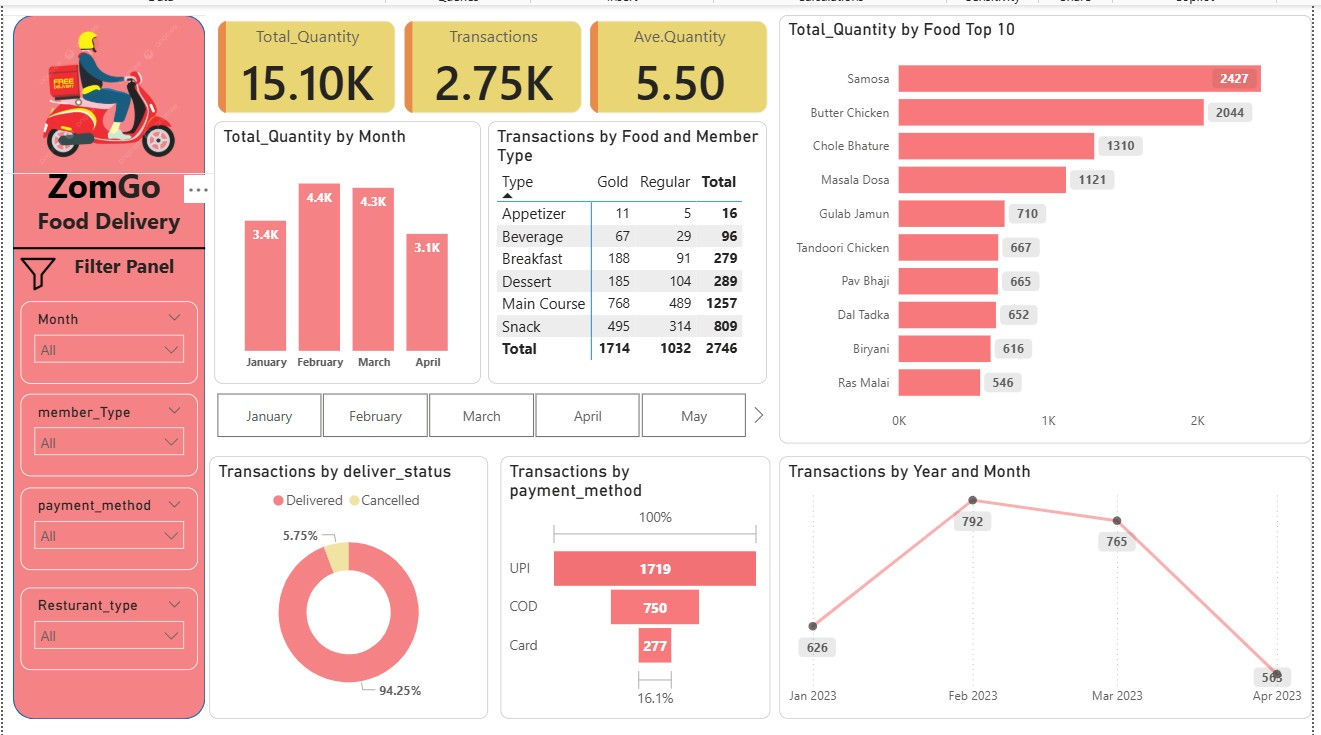

Layout of this report page (visuals, bound fields, positions):
{"tool":"powerbi","page":{"name":"Page 1","canvas":[1280,720],"ordinal":0},"visuals":[{"type":"shape","box":[9.6,9.6,188,688.9],"z":0},{"type":"image","box":[0,9.6,207.2,155.1],"z":1000},{"type":"textbox","box":[23.3,149.6,160.5,87.8],"z":2000},{"type":"shape","box":[9.6,208.6,188,57.6],"z":3000},{"type":"cardVisual","fields":{"Data":["Sales Data.Total_Quantity","Sales Data.Transactions","Sales Data.Ave.Quantity"]},"box":[198.1,0,569.8,123.5],"z":3001},{"type":"clusteredColumnChart","fields":{"Y":["Sales Data.Total_Quantity"],"Category":["Sales Data.orderDate.Variation.Date Hierarchy.Month"]},"box":[206.7,113.7,260.5,256.8],"z":3002},{"type":"pivotTable","title":"Transactions by Food and Member Type","fields":{"Rows":["Food_Details.Type"],"Columns":["Customer Details.member_Type"],"Values":["Sales Data.Transactions"]},"box":[474.5,113.7,272.7,256.8],"z":3003},{"type":"donutChart","fields":{"Category":["Sales Data.deliver_status"],"Y":["Sales Data.Transactions"]},"box":[201.7,441.9,273.1,256.6],"z":3004},{"type":"funnel","fields":{"Y":["Sales Data.Transactions"],"Category":["Sales Data.payment_method"]},"box":[486.7,441.4,264.1,256.8],"z":3005},{"type":"clusteredBarChart","title":"Total_Quantity by Food Top 10","fields":{"Y":["Sales Data.Total_Quantity"],"Category":["Food_Details.Food"]},"box":[759.4,9.8,520.9,419.4],"z":3006},{"type":"lineChart","fields":{"Y":["Sales Data.Transactions"],"Category":["Sales Data.orderDate.Variation.Date Hierarchy.Year","Sales Data.orderDate.Variation.Date Hierarchy.Month"]},"box":[759,441,521,257],"z":3007},{"type":"slicer","fields":{"Values":["Sales Data.payment_method"]},"box":[17.1,472,173.6,80.7],"z":3008},{"type":"slicer","fields":{"Values":["Customer Details.member_Type"]},"box":[17.1,380.3,173.6,80.7],"z":3009},{"type":"slicer","fields":{"Values":["Sales Data.orderDate.Variation.Date Hierarchy.Month"]},"box":[17.1,289.8,173.6,80.7],"z":3010},{"type":"slicer","fields":{"Values":["Resturant_Details.Resturant_type"]},"box":[17.1,569.8,173.6,80.7],"z":3011},{"type":"image","box":[17.1,237.2,34.2,52.6],"z":3012},{"type":"textbox","box":[64.8,237.2,110.1,41.6],"z":3013},{"type":"slicer","fields":{"Values":["Sales Data.orderDate.Variation.Date Hierarchy.Month"]},"box":[183.4,373,567.4,56.3],"z":3014}]}

Visuals, with their boxes in screenshot pixels (x1, y1, x2, y2), scaled from the page's 1280x720 canvas onto the 1321x735 screenshot:
shape: box=[10, 10, 204, 713]
image: box=[0, 10, 214, 168]
textbox: box=[24, 153, 190, 242]
shape: box=[10, 213, 204, 272]
cardVisual - Sales Data.Total_Quantity x Sales Data.Transactions: box=[204, 0, 792, 126]
clusteredColumnChart - Sales Data.Total_Quantity x Sales Data.orderDate.Variation.Date Hierarchy.Month: box=[213, 116, 482, 378]
"Transactions by Food and Member Type" pivotTable: box=[490, 116, 771, 378]
donutChart - Sales Data.deliver_status x Sales Data.Transactions: box=[208, 451, 490, 713]
funnel - Sales Data.Transactions x Sales Data.payment_method: box=[502, 451, 775, 713]
"Total_Quantity by Food Top 10" clusteredBarChart: box=[784, 10, 1320, 438]
lineChart - Sales Data.Transactions x Sales Data.orderDate.Variation.Date Hierarchy.Year: box=[783, 450, 1320, 713]
slicer - Sales Data.payment_method: box=[18, 482, 197, 564]
slicer - Customer Details.member_Type: box=[18, 388, 197, 471]
slicer - Sales Data.orderDate.Variation.Date Hierarchy.Month: box=[18, 296, 197, 378]
slicer - Resturant_Details.Resturant_type: box=[18, 582, 197, 664]
image: box=[18, 242, 53, 296]
textbox: box=[67, 242, 181, 285]
slicer - Sales Data.orderDate.Variation.Date Hierarchy.Month: box=[189, 381, 775, 438]
